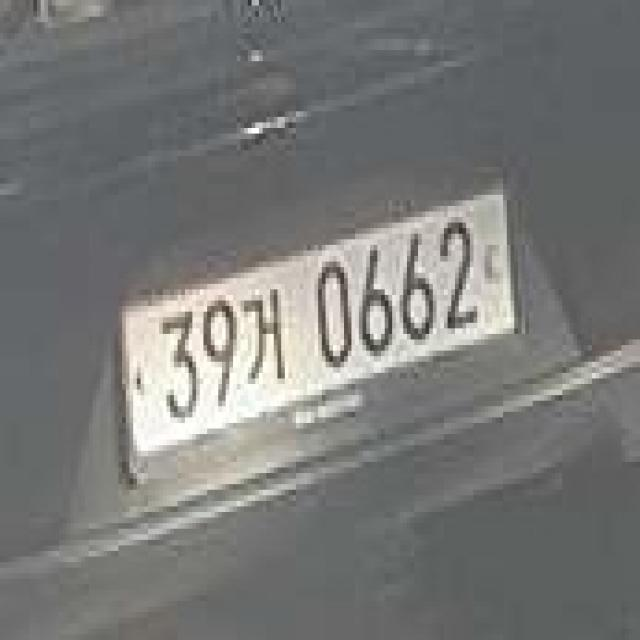0: (314, 262, 352, 367)
2: (437, 217, 477, 334)
3: (155, 306, 200, 423)
6: (355, 245, 396, 356), (396, 234, 436, 345)
9: (196, 301, 237, 406)
geo: (236, 284, 288, 389)
license_plate: (119, 183, 526, 468)
